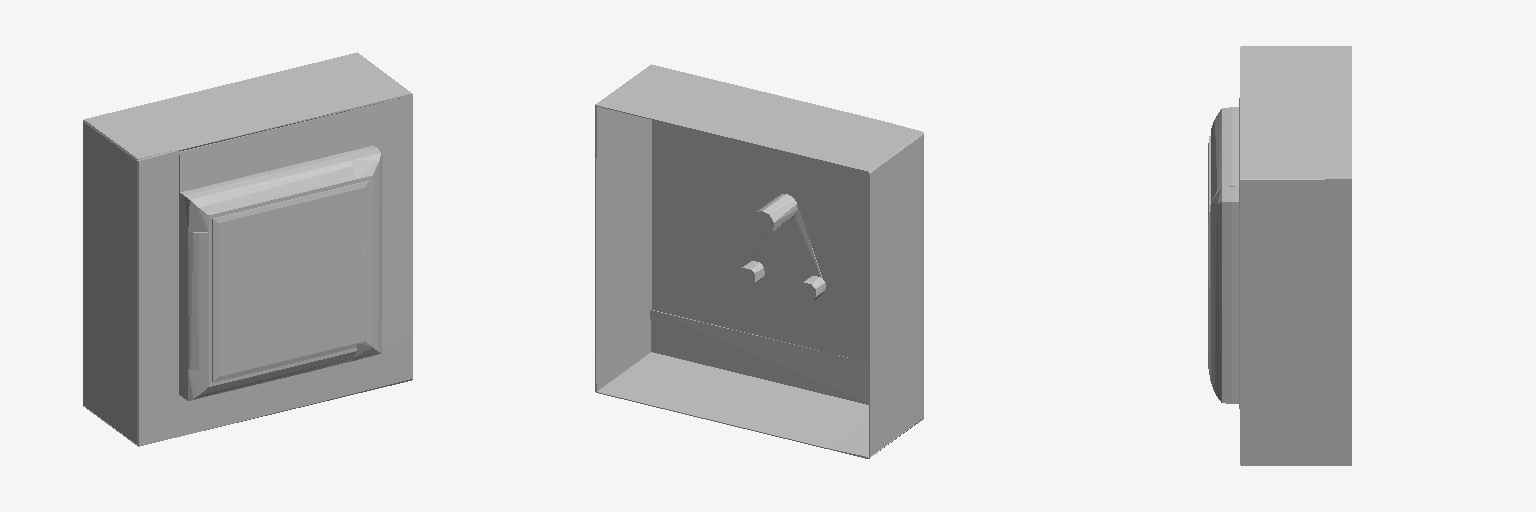
Rendered from Socket_India_vhacd2.obj.
3 renders of one model, left to right at view 1: azimuth 30°, elevation 25°; view 2: azimuth 150°, elevation 25°; view 3: azimuth 270°, elevation 25°, orthographic.
Parts seen in each view (by area): view 1: convex_18, convex_15, convex_5, convex_10, convex_0, convex_2, convex_6, convex_1, convex_16, convex_17, convex_7, convex_3; view 2: convex_15, convex_5, convex_10, convex_8, convex_3, convex_2, convex_14, convex_9, convex_7, convex_13, convex_4; view 3: convex_3, convex_10, convex_16, convex_9, convex_6, convex_7.
Boxes of the visible parts, box(x1,y1,x2,y2) form: convex_18: box(212, 181, 368, 382); convex_15: box(179, 96, 410, 394); convex_5: box(83, 122, 136, 443); convex_10: box(124, 53, 410, 151); convex_0: box(137, 150, 178, 446); convex_2: box(179, 338, 412, 436); convex_6: box(180, 153, 356, 232); convex_1: box(180, 226, 211, 370); convex_16: box(343, 145, 381, 360); convex_17: box(180, 348, 356, 400); convex_7: box(83, 110, 177, 160); convex_3: box(356, 52, 412, 337); convex_15: box(652, 120, 868, 362); convex_5: box(869, 134, 923, 457); convex_10: box(597, 65, 883, 162); convex_8: box(597, 352, 868, 448); convex_3: box(595, 64, 651, 349); convex_2: box(650, 310, 868, 404); convex_14: box(752, 204, 825, 289); convex_9: box(595, 311, 650, 392); convex_7: box(829, 122, 923, 173); convex_13: box(753, 194, 797, 234); convex_4: box(829, 418, 923, 458); convex_3: box(1240, 178, 1351, 423); convex_10: box(1240, 65, 1351, 177); convex_16: box(1208, 186, 1238, 403); convex_9: box(1243, 424, 1351, 465); convex_6: box(1211, 107, 1238, 200); convex_7: box(1243, 46, 1351, 64).
Size of the model in its own units: 0.1147 by 0.1147 by 0.0518.